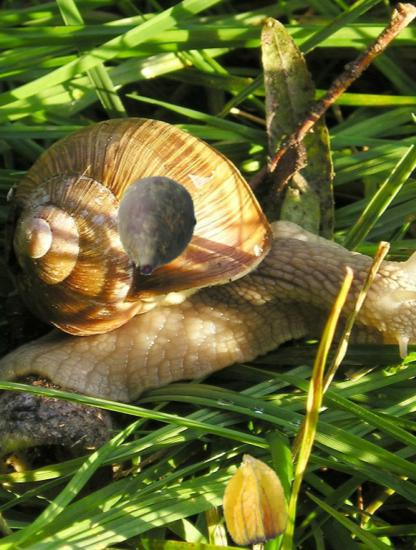Beetroot: (105, 174, 207, 276)
Physalis: (207, 452, 300, 545)
